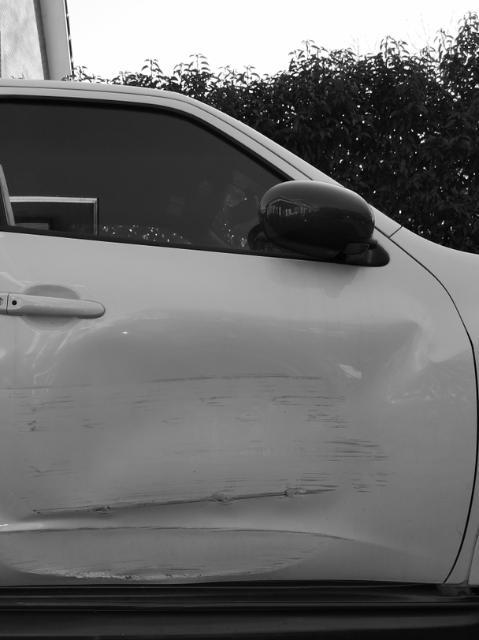Door: (0, 239, 479, 604)
